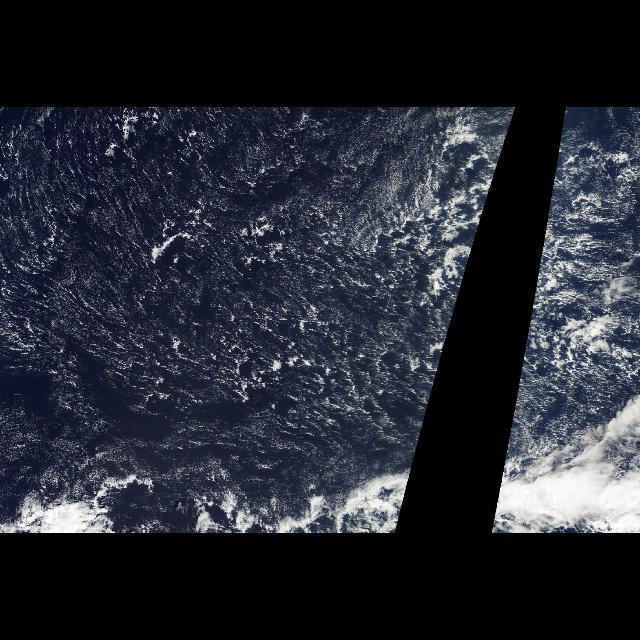Gravel: (12, 210, 484, 462), (502, 210, 574, 462)
Sugar: (3, 109, 490, 293), (28, 297, 230, 459)
